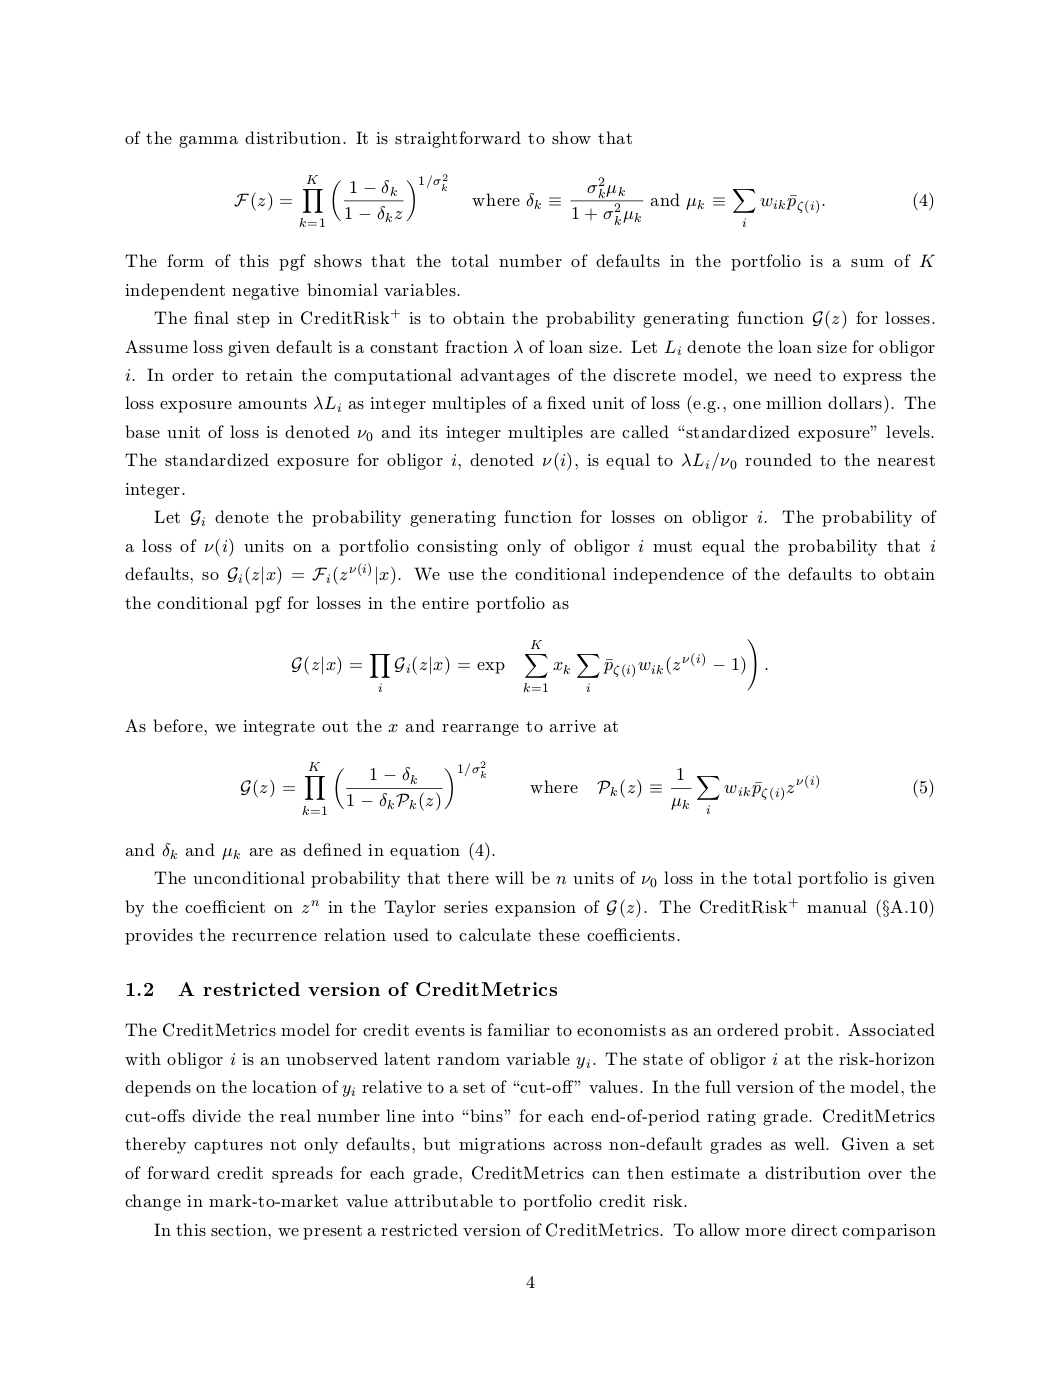formula: (234, 172, 933, 227), (240, 760, 933, 815), (291, 637, 767, 692)
